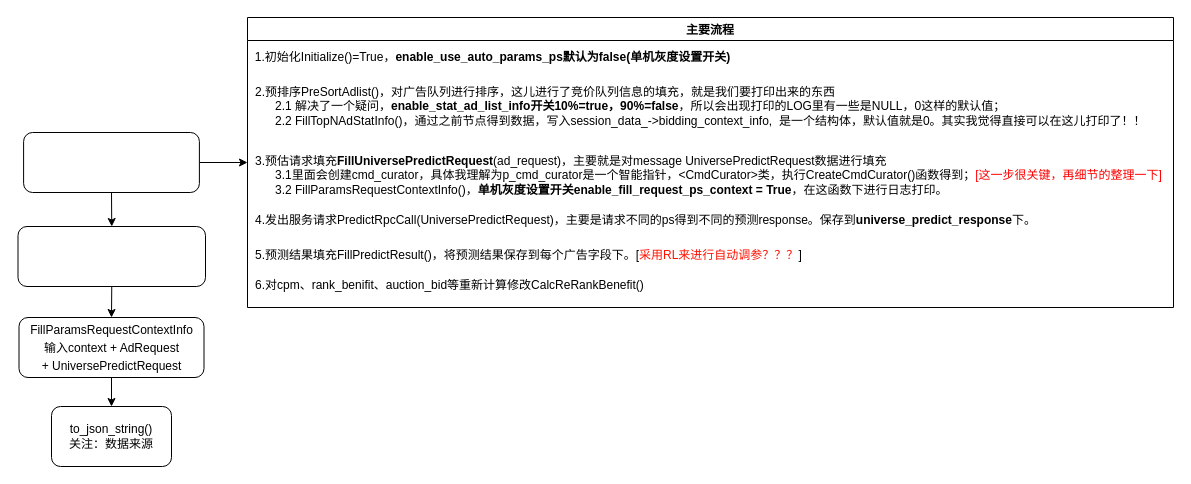
Image size: 1191x484. Some labels were removed from this diagram. Each missing label, with the centre of its shape:
AutoParamsPredict(Node) ProcessInner: point 111,162
FillUniversePredictRequest 输入 AdRequest: point 111,256
